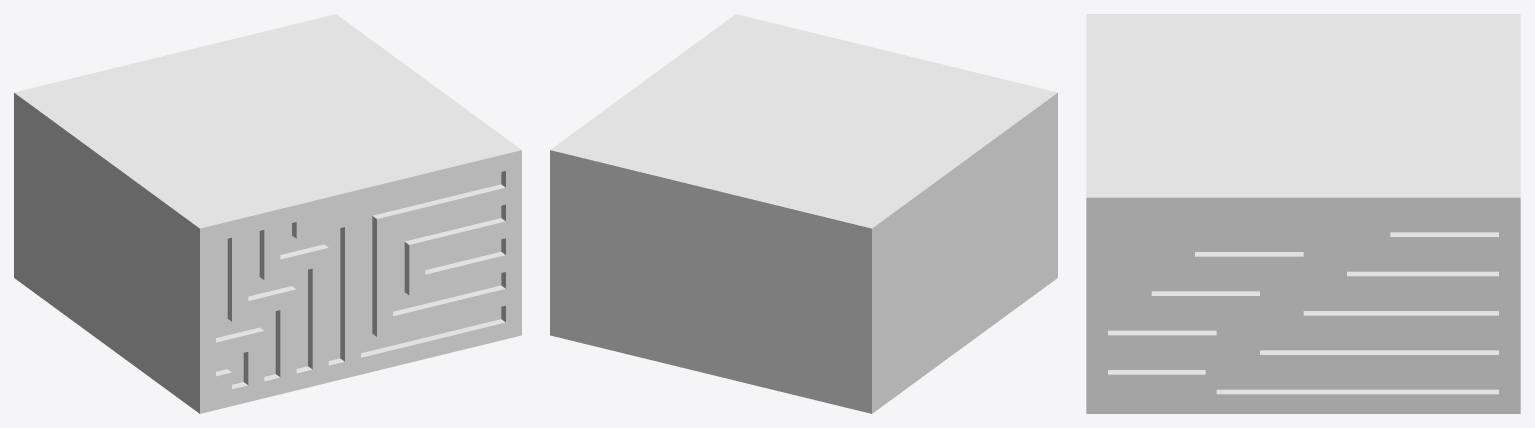
Rendered from platform.obj.
3 renders of one model, left to right at view 1: azimuth 30°, elevation 25°; view 2: azimuth 150°, elevation 25°; view 3: azimuth 270°, elevation 25°, orthographic. The views are drawn at different scales.
Size of the model in its own units: 40 by 22 by 40.
